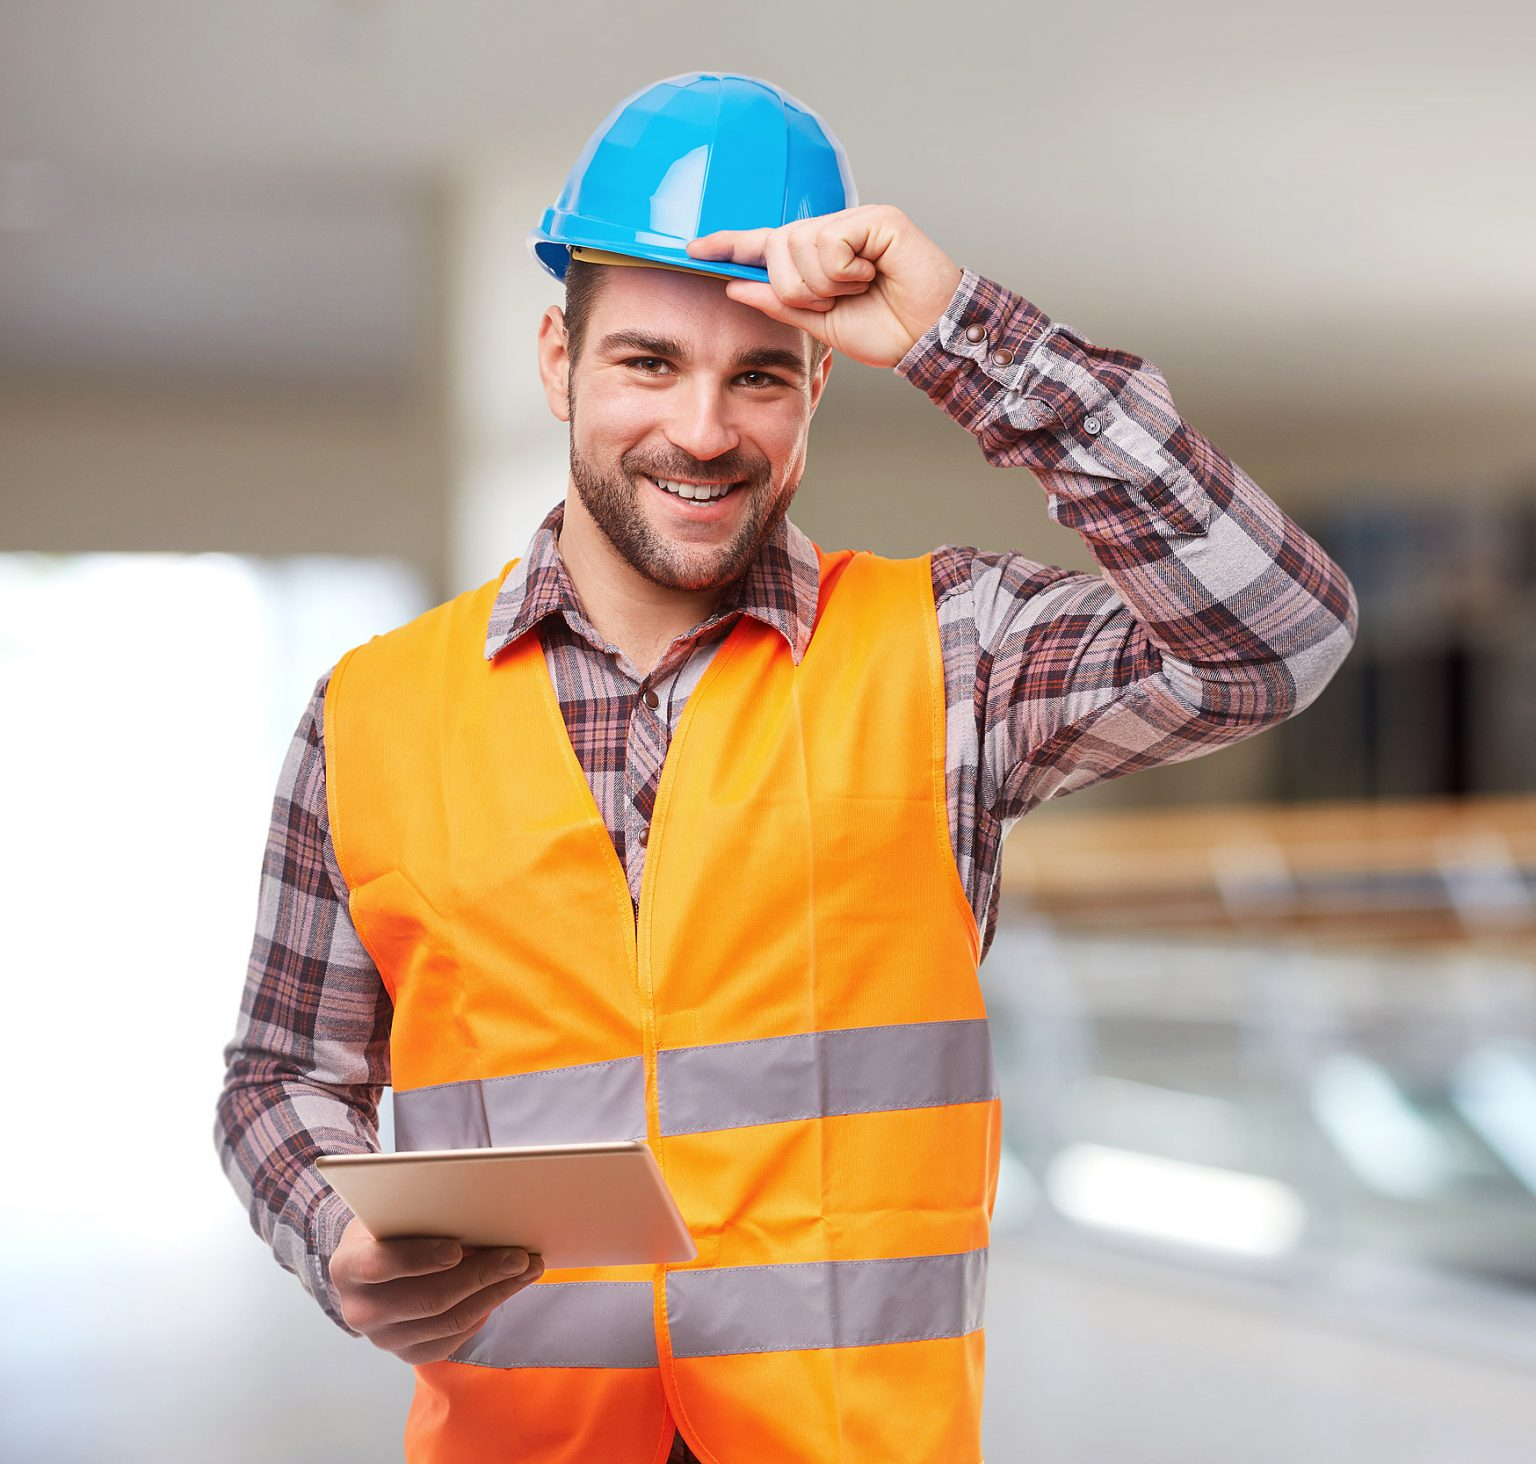Helmet: (523, 58, 876, 596)
Reflective vest: (304, 522, 1024, 1464)
